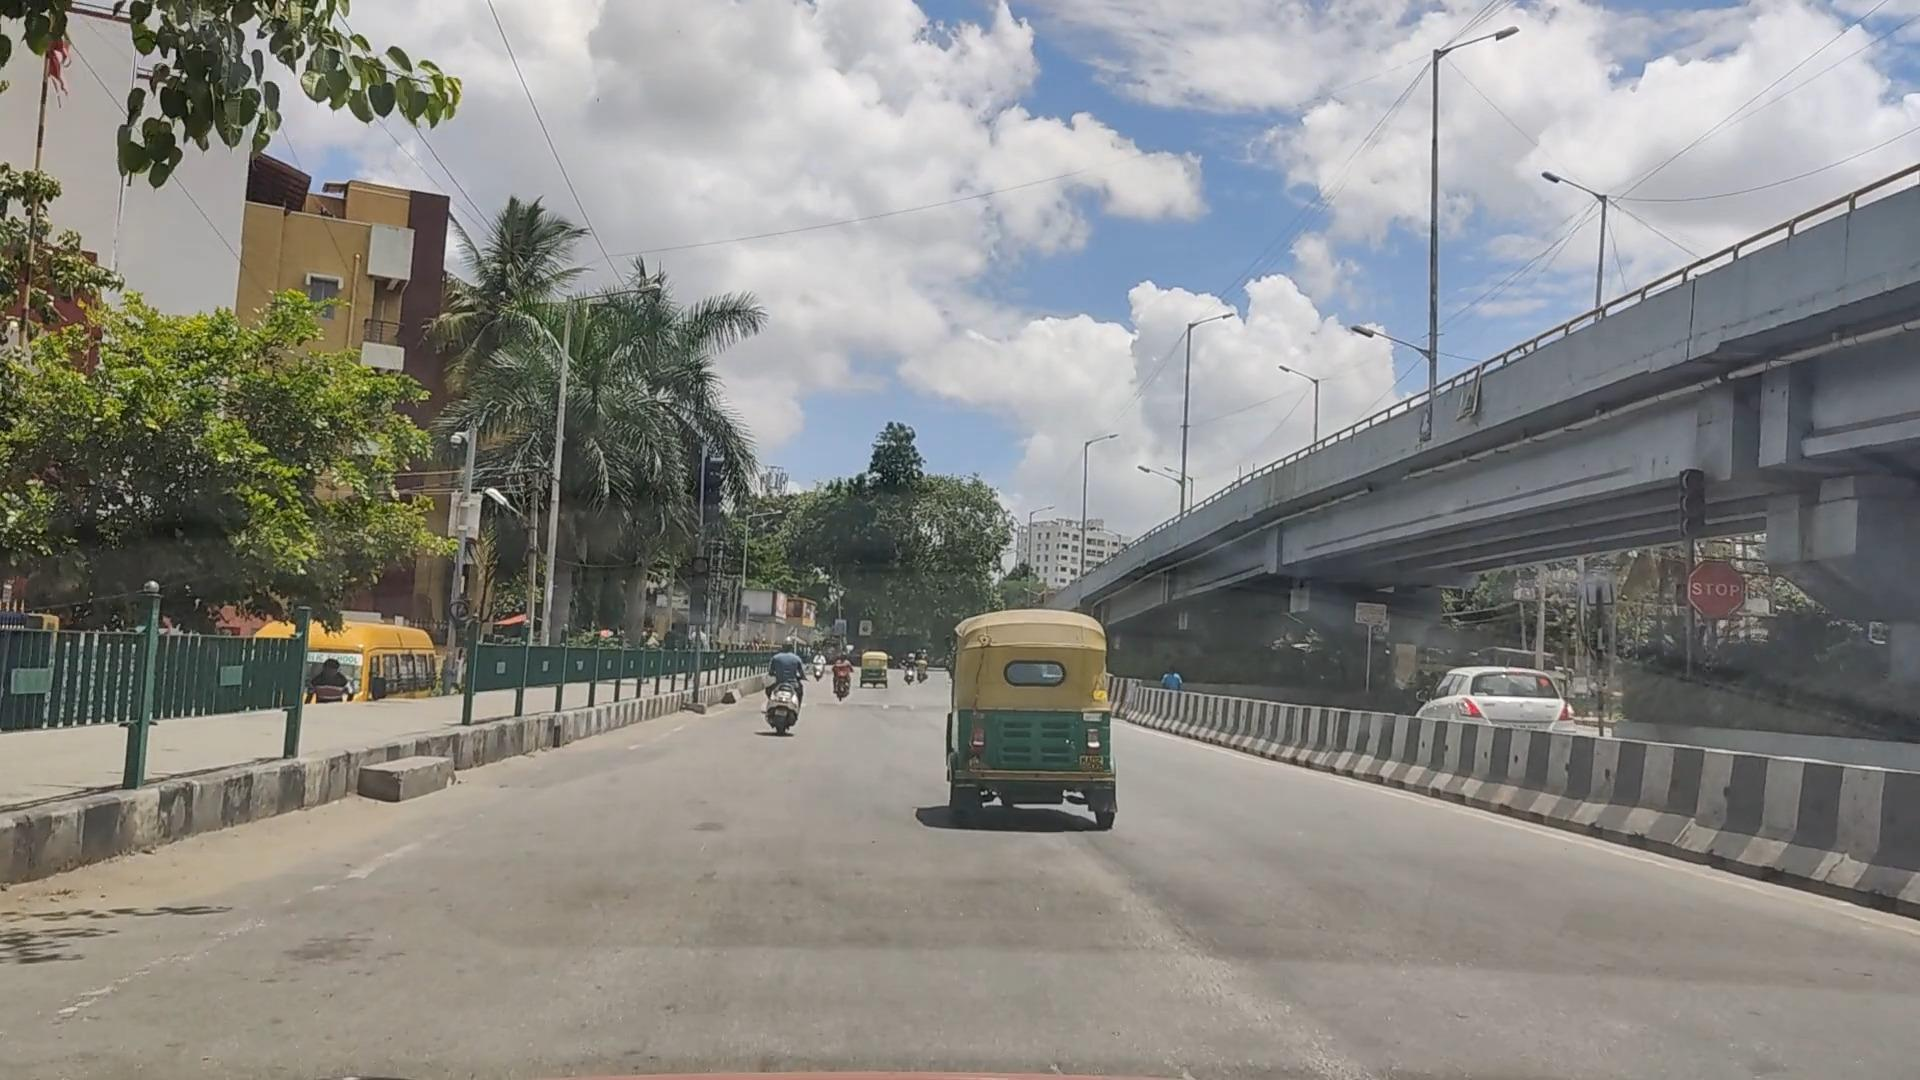LMV: (953, 612, 1125, 833)
RoadDamages: (1143, 922, 1340, 1071)
